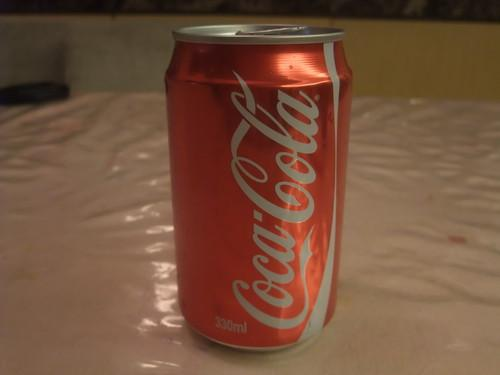metal: (165, 24, 353, 350)
